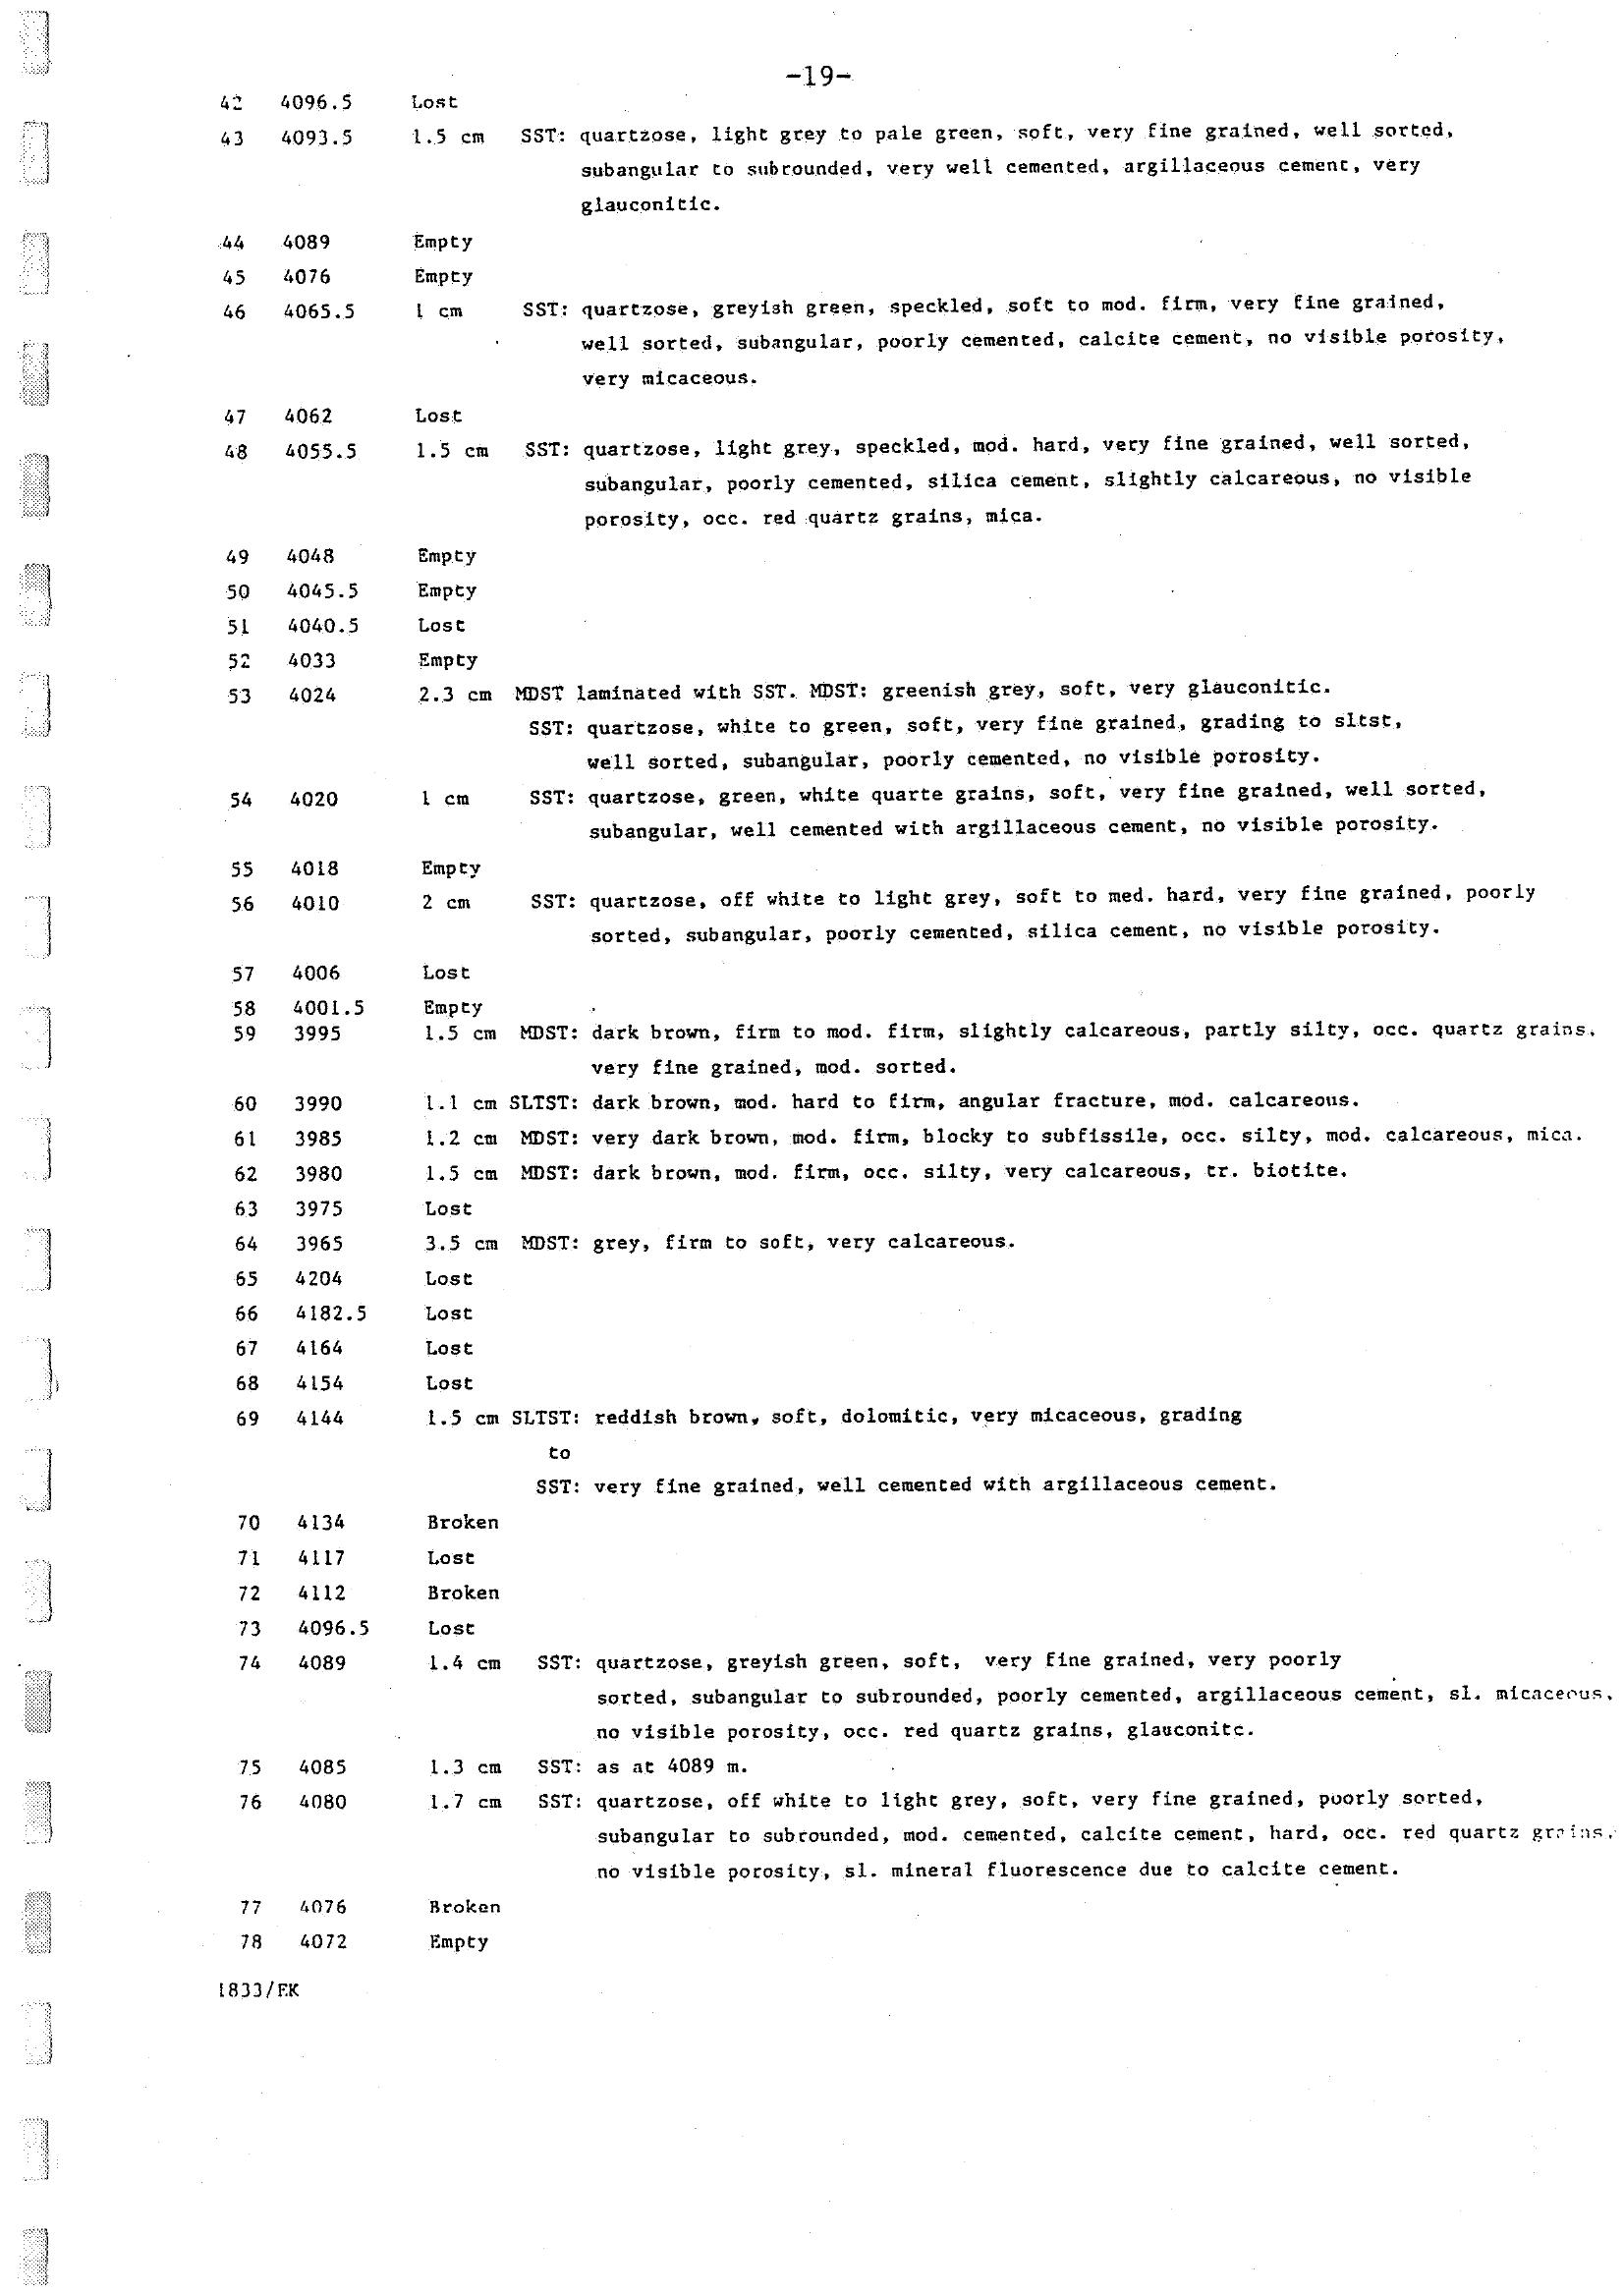table: (183, 86, 1624, 2021)
